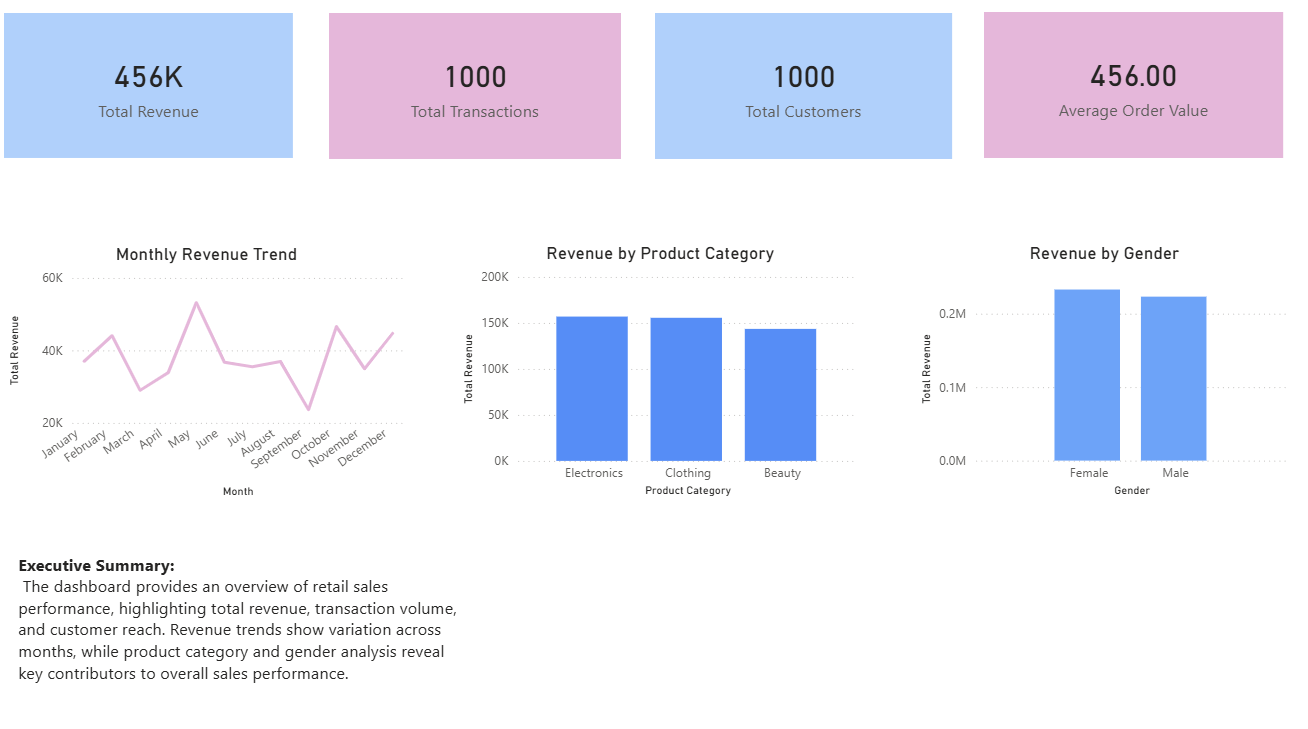

Layout of this report page (visuals, bound fields, positions):
{"tool":"powerbi","page":{"name":"Executive Overview","canvas":[1280,720],"ordinal":0},"visuals":[{"type":"card","fields":{"Values":["RETAIL_SALES_DATASET.Total Revenue"]},"box":[7.8,19.5,281.1,141],"z":0},{"type":"card","fields":{"Values":["RETAIL_SALES_DATASET.Total Transactions"]},"box":[323.7,19,283.8,141.9],"z":1000},{"type":"card","fields":{"Values":["RETAIL_SALES_DATASET.Total Customers"]},"box":[640.5,19,288.8,141.9],"z":2000},{"type":"card","fields":{"Values":["RETAIL_SALES_DATASET.Average Order Value"]},"box":[960.5,18.5,290.7,141.8],"z":3000},{"type":"lineChart","title":"Monthly Revenue Trend","fields":{"Category":["RETAIL_SALES_DATASET.Month.Variation.Date Hierarchy.Month"],"Y":["Sum(RETAIL_SALES_DATASET.Revenue)"]},"box":[7.8,244.1,393.9,250.9],"z":4000},{"type":"clusteredColumnChart","title":"Revenue by Product Category","fields":{"Category":["RETAIL_SALES_DATASET.Product Category"],"Y":["Sum(RETAIL_SALES_DATASET.Revenue)"]},"box":[449.4,243.2,393.9,250.9],"z":5000},{"type":"clusteredColumnChart","title":"Revenue by Gender","fields":{"Y":["Sum(RETAIL_SALES_DATASET.Revenue)"],"Category":["RETAIL_SALES_DATASET.Gender"]},"box":[894.8,243.5,366.7,250.7],"z":6000},{"type":"textbox","box":[16.5,539.8,449.4,164.4],"z":7000}]}

Visuals, with their boxes in screenshot pixels (x1, y1, x2, y2), scaled from the page's 1280x720 canvas onto the 1308x729 screenshot:
card - RETAIL_SALES_DATASET.Total Revenue: Rect(8, 20, 295, 163)
card - RETAIL_SALES_DATASET.Total Transactions: Rect(331, 19, 621, 163)
card - RETAIL_SALES_DATASET.Total Customers: Rect(655, 19, 950, 163)
card - RETAIL_SALES_DATASET.Average Order Value: Rect(982, 19, 1279, 162)
"Monthly Revenue Trend" lineChart: Rect(8, 247, 410, 501)
"Revenue by Product Category" clusteredColumnChart: Rect(459, 246, 862, 500)
"Revenue by Gender" clusteredColumnChart: Rect(914, 247, 1289, 500)
textbox: Rect(17, 547, 476, 713)
